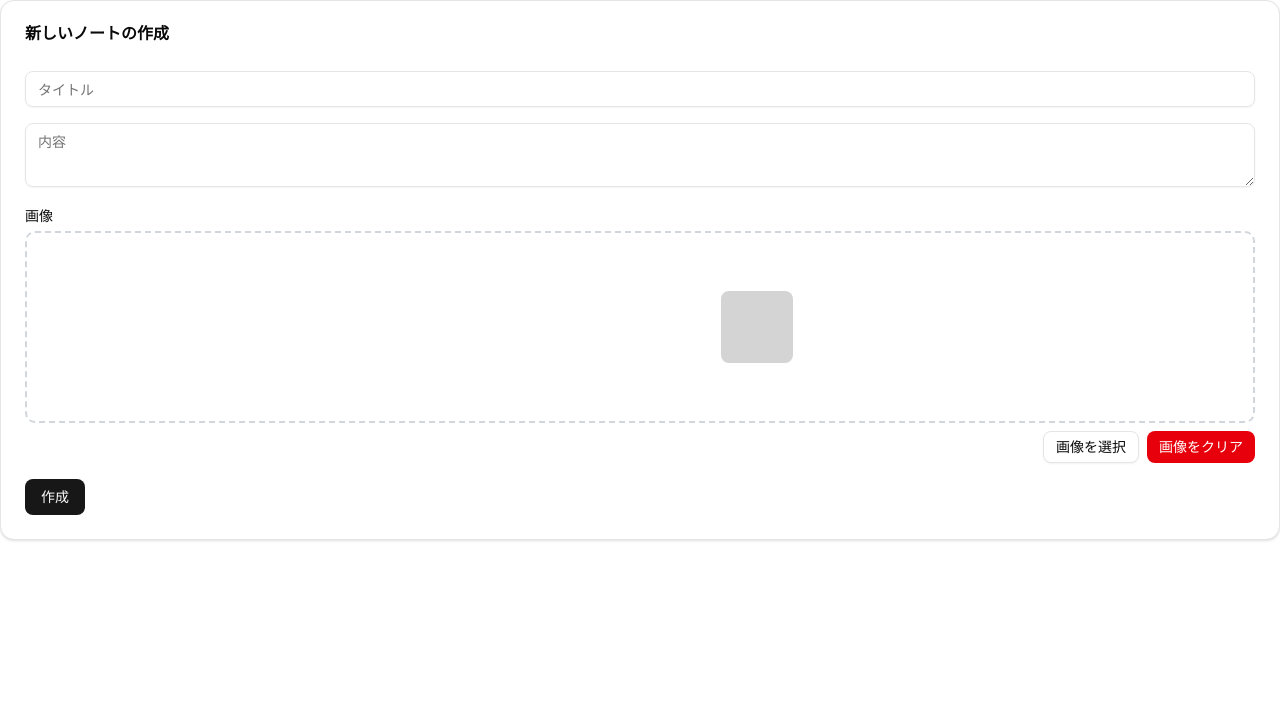
Test: NewNoteForm › 画像のプレビュー表示後、「画像をクリア」ボタンでプレビューが消えること
Click the button "画像をクリア". click: (1201, 447)
box: top-left (1147, 431), bottom-right (1255, 463)
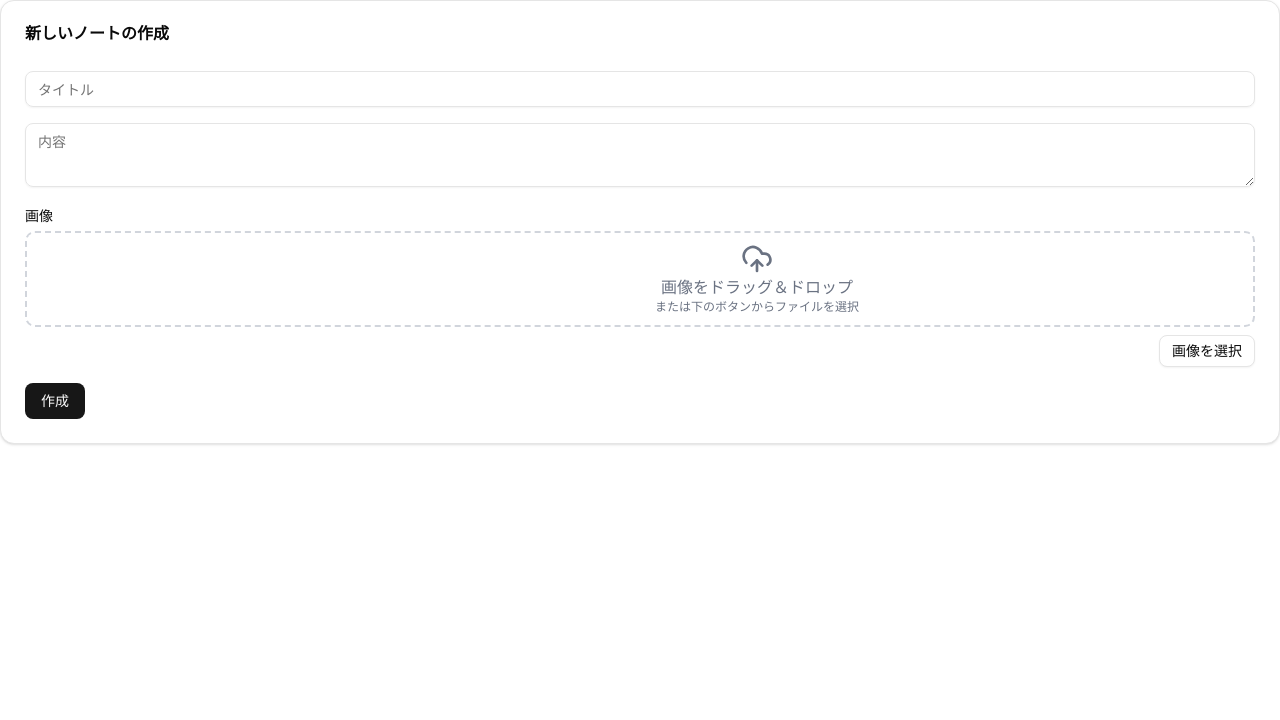
Expected: the picture "プレビュー" is gone
